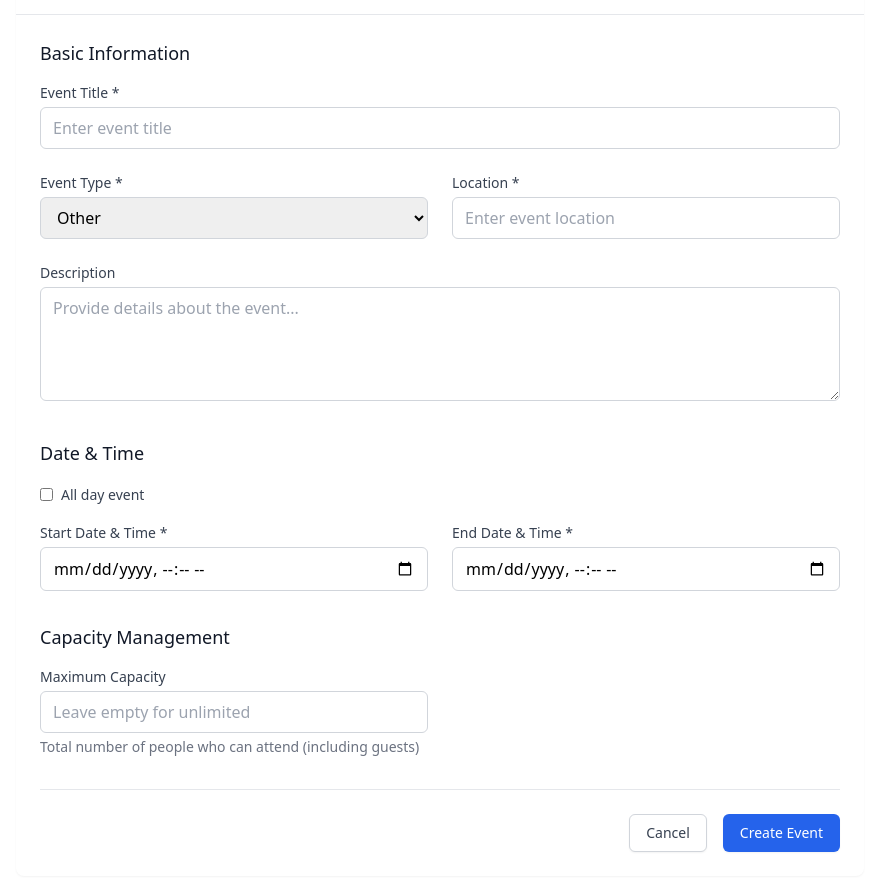
EventForm › Form Validation › should show required field errors on empty submission
(page scrolled)
Click the button "Create Event" at [781, 833], box [723, 814, 840, 852]
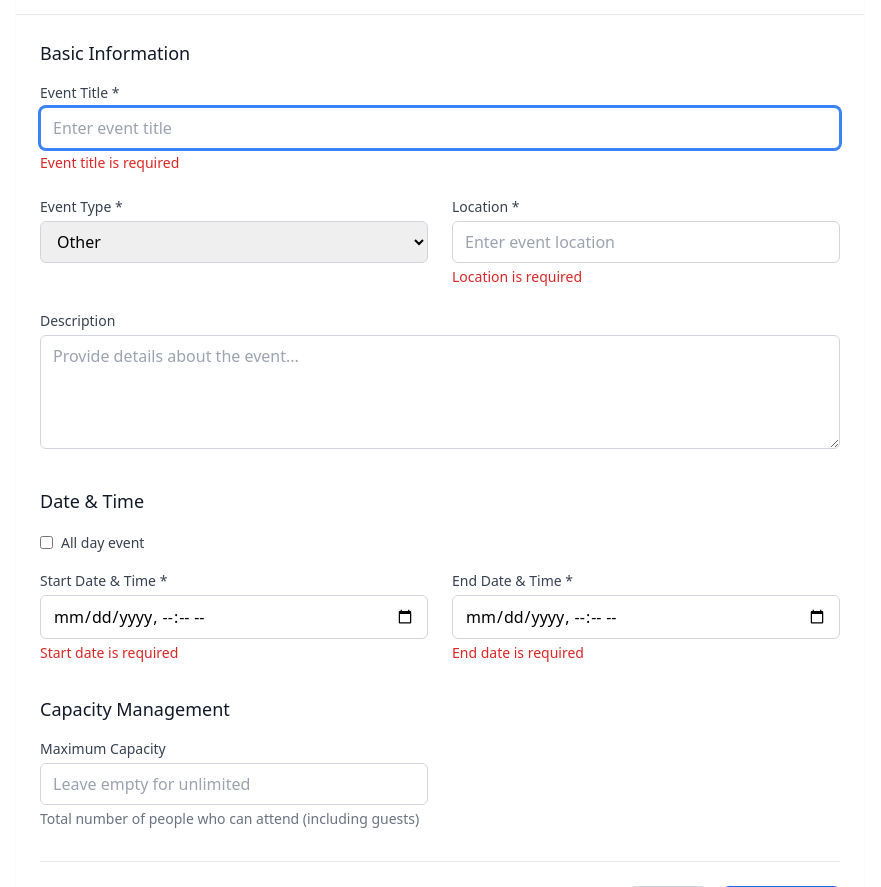
Now the text "Event title is required" is shown, box [40, 153, 179, 172]
Now the text "Location is required" is shown, box [452, 267, 582, 286]
Now the text "Start date is required" is shown, box [40, 643, 178, 662]
